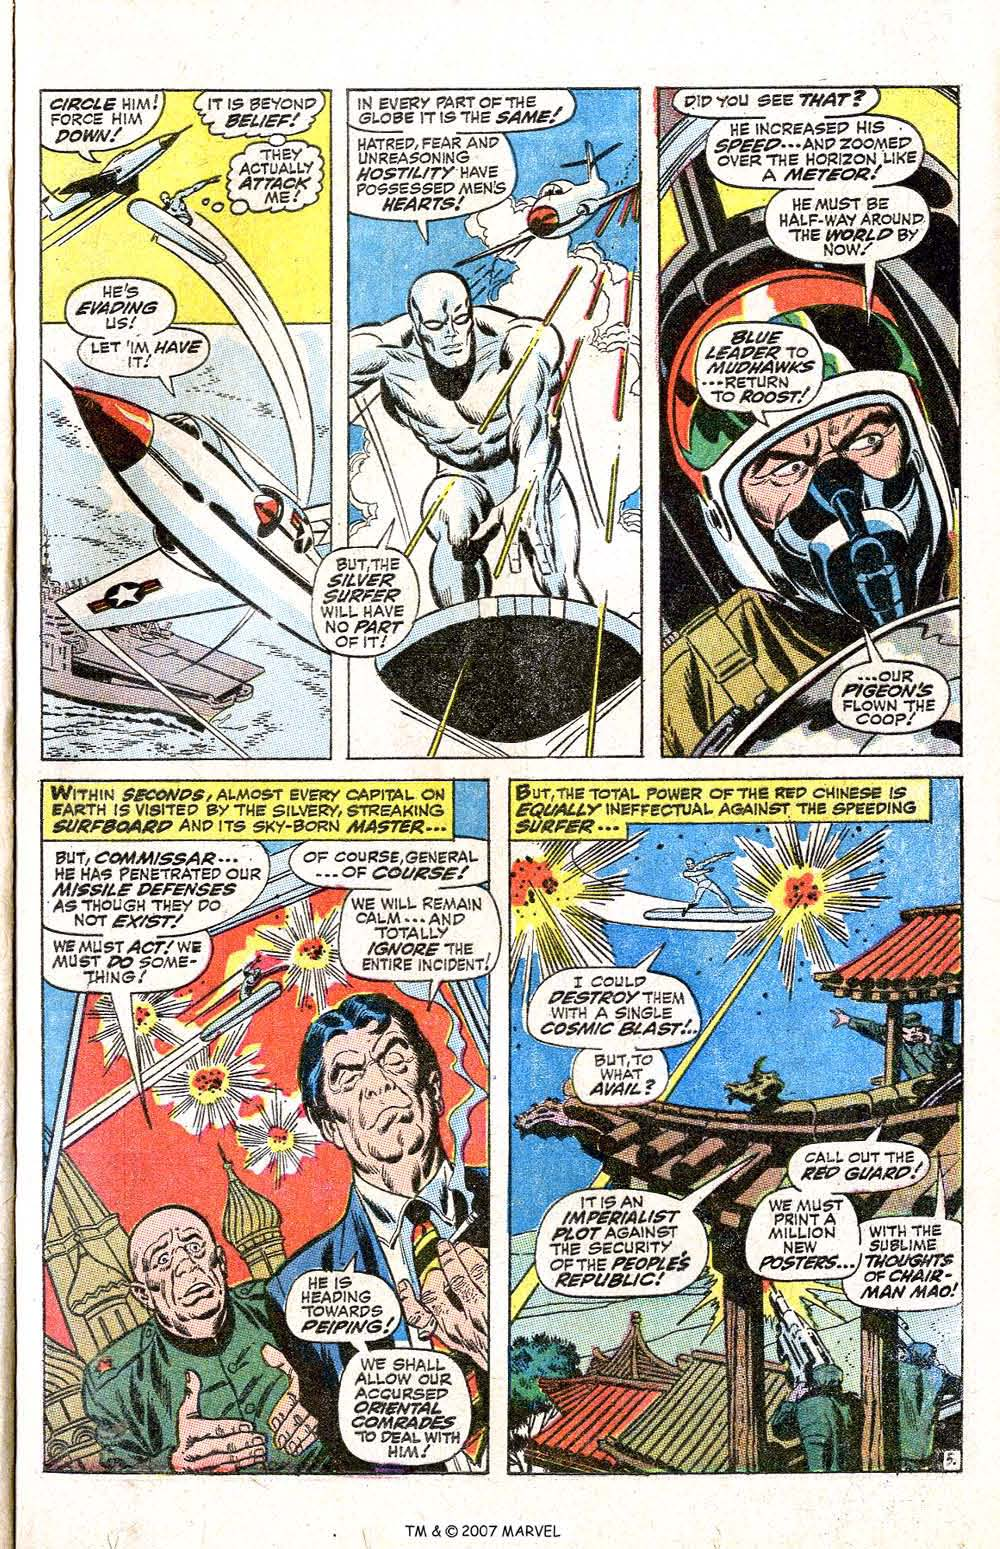Baloon: (508, 784, 930, 848), (44, 781, 456, 843), (534, 960, 703, 1108), (41, 924, 218, 1054), (534, 1184, 718, 1307), (344, 122, 520, 238), (58, 274, 222, 396), (46, 848, 267, 934), (703, 107, 927, 189), (339, 1344, 472, 1469), (339, 891, 503, 981), (312, 539, 422, 665), (737, 1188, 861, 1293), (696, 324, 825, 422), (341, 81, 577, 134), (765, 191, 927, 266), (291, 834, 494, 889), (847, 1219, 965, 1310), (40, 81, 163, 161), (832, 655, 953, 736), (287, 1269, 400, 1344), (672, 86, 887, 124), (789, 1138, 930, 1196), (227, 143, 332, 219), (194, 86, 332, 135)
Vignetta: (506, 779, 960, 1469), (44, 774, 491, 1474), (656, 84, 960, 756), (40, 86, 339, 762), (347, 86, 639, 756)
